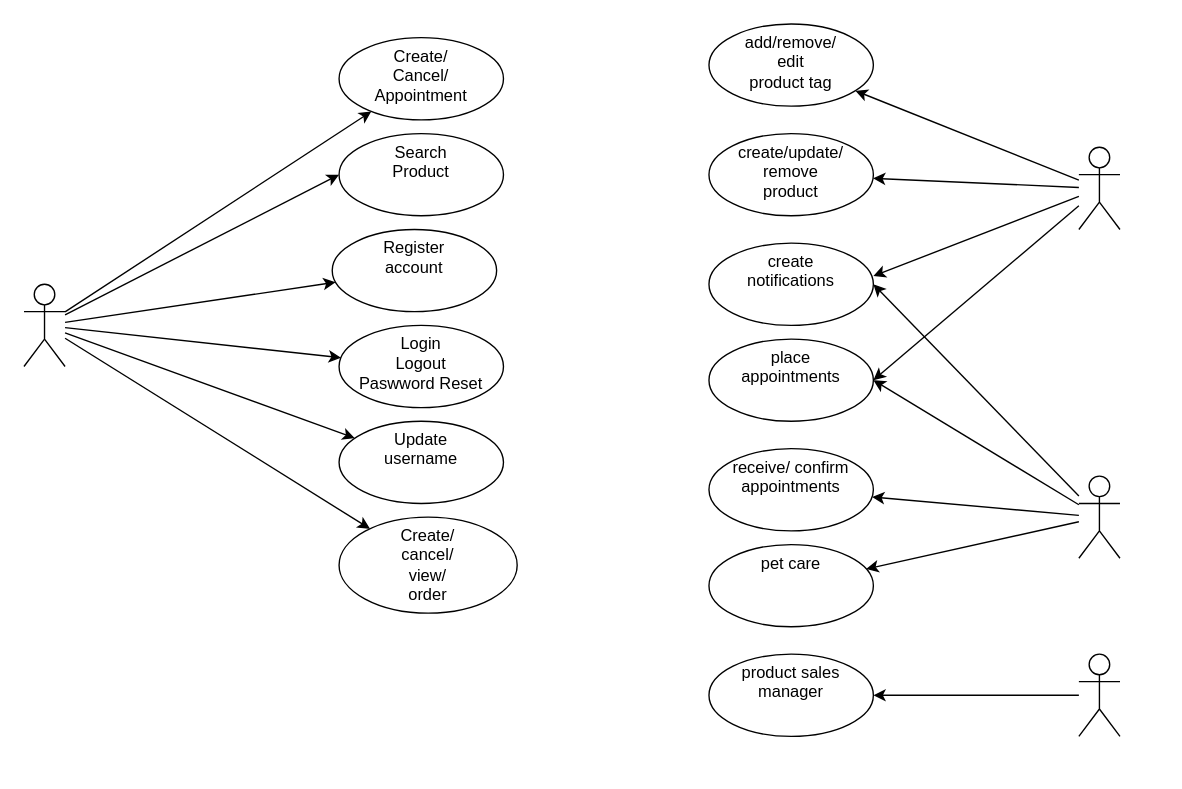
This 1182x789 diagram has some shape labels left out. Here are the shapes that lost their labels. From the top down, the centre of each, then its label:
At (x=1099, y=187): "Doctor".
At (x=44, y=324): "Client".
At (x=1099, y=516): "Doctor Assistant".
At (x=1099, y=694): "Accountant".
